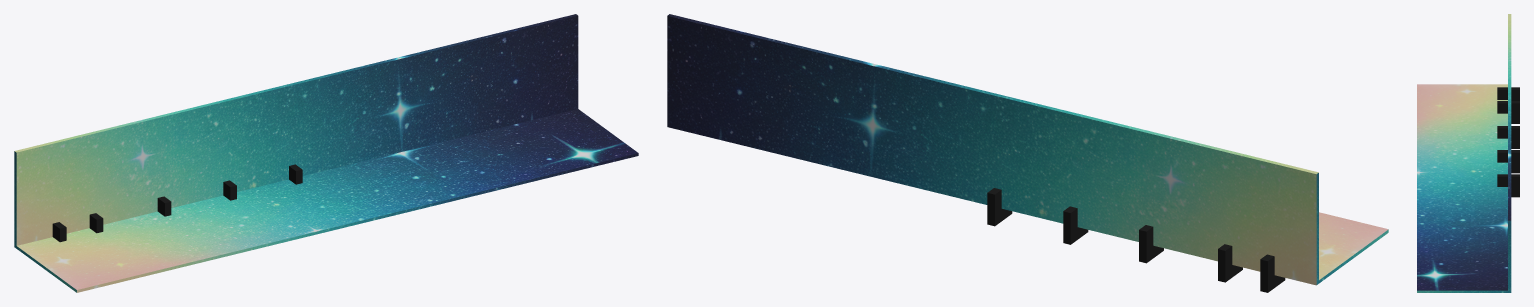
File: walltest.glb
3 renders of one model, left to right at view 1: azimuth 30°, elevation 25°; view 2: azimuth 150°, elevation 25°; view 3: azimuth 270°, elevation 25°, orthographic. The views are drawn at different scales.
Parts seen in each view (by area): view 1: Cube; view 2: Cube, Cube.005, Cube.003, Cube.002, Cube.001, Cube.004; view 3: Cube, Cube.002, Cube.003, Cube.001, Cube.004, Cube.005.
Boxes of the visible parts, x1,y1,x2,y2 form: Cube: (14,14,638,292); Cube: (667,14,1388,285); Cube.005: (1260,254,1285,292); Cube.003: (987,188,1012,226); Cube.002: (1063,206,1088,244); Cube.001: (1139,225,1163,263); Cube.004: (1218,244,1242,282); Cube: (1417,14,1511,292); Cube.002: (1497,150,1519,173); Cube.003: (1497,174,1519,197); Cube.001: (1497,126,1519,148); Cube.004: (1497,101,1519,123); Cube.005: (1497,87,1519,100).
Size of the model in its own units: 42.82 by 7.81 by 9.03.
Materials: 2 (1 with a texture image).
